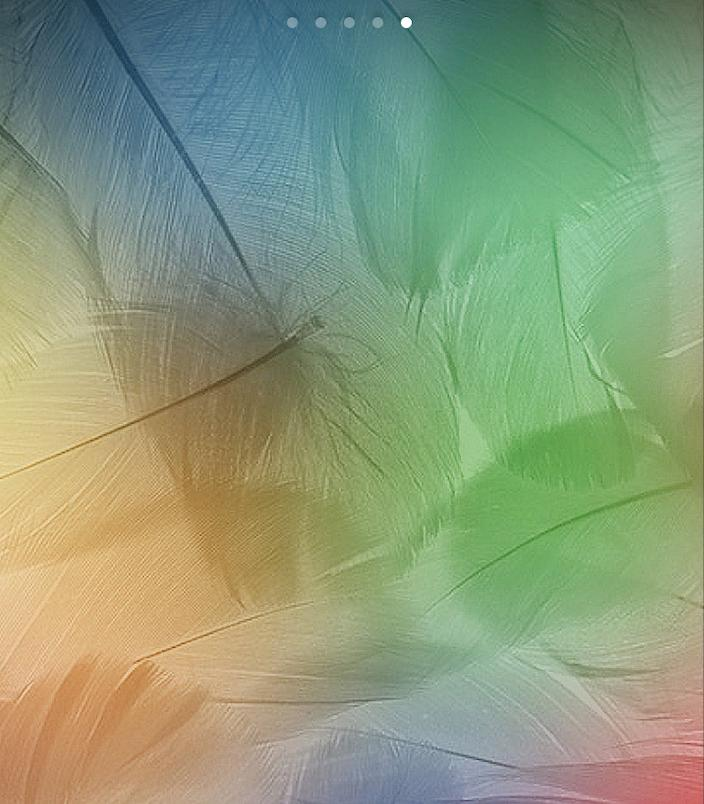ImgView: (1, 1, 703, 803)
